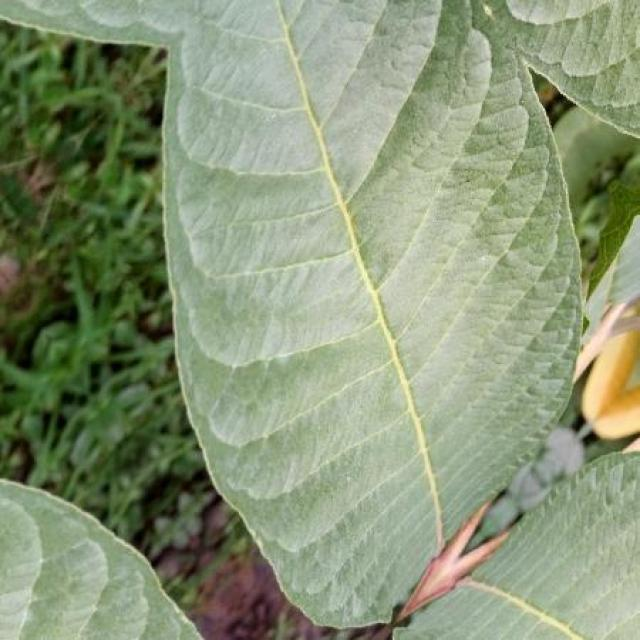Disease Free: (0, 0, 640, 626), (398, 452, 640, 640), (0, 481, 202, 640)
